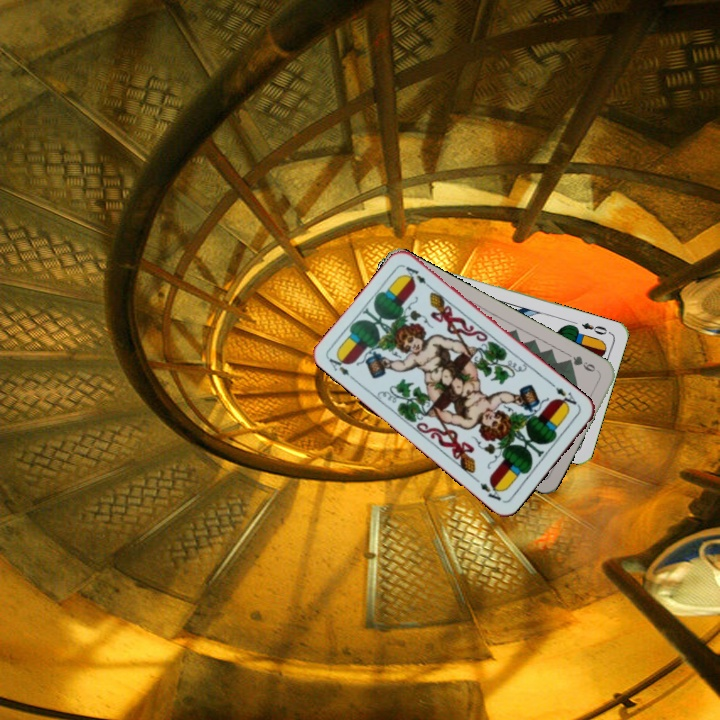EA: (325, 351, 359, 384), (548, 380, 583, 411)
EO: (577, 318, 610, 338)
G9: (562, 352, 601, 375)
